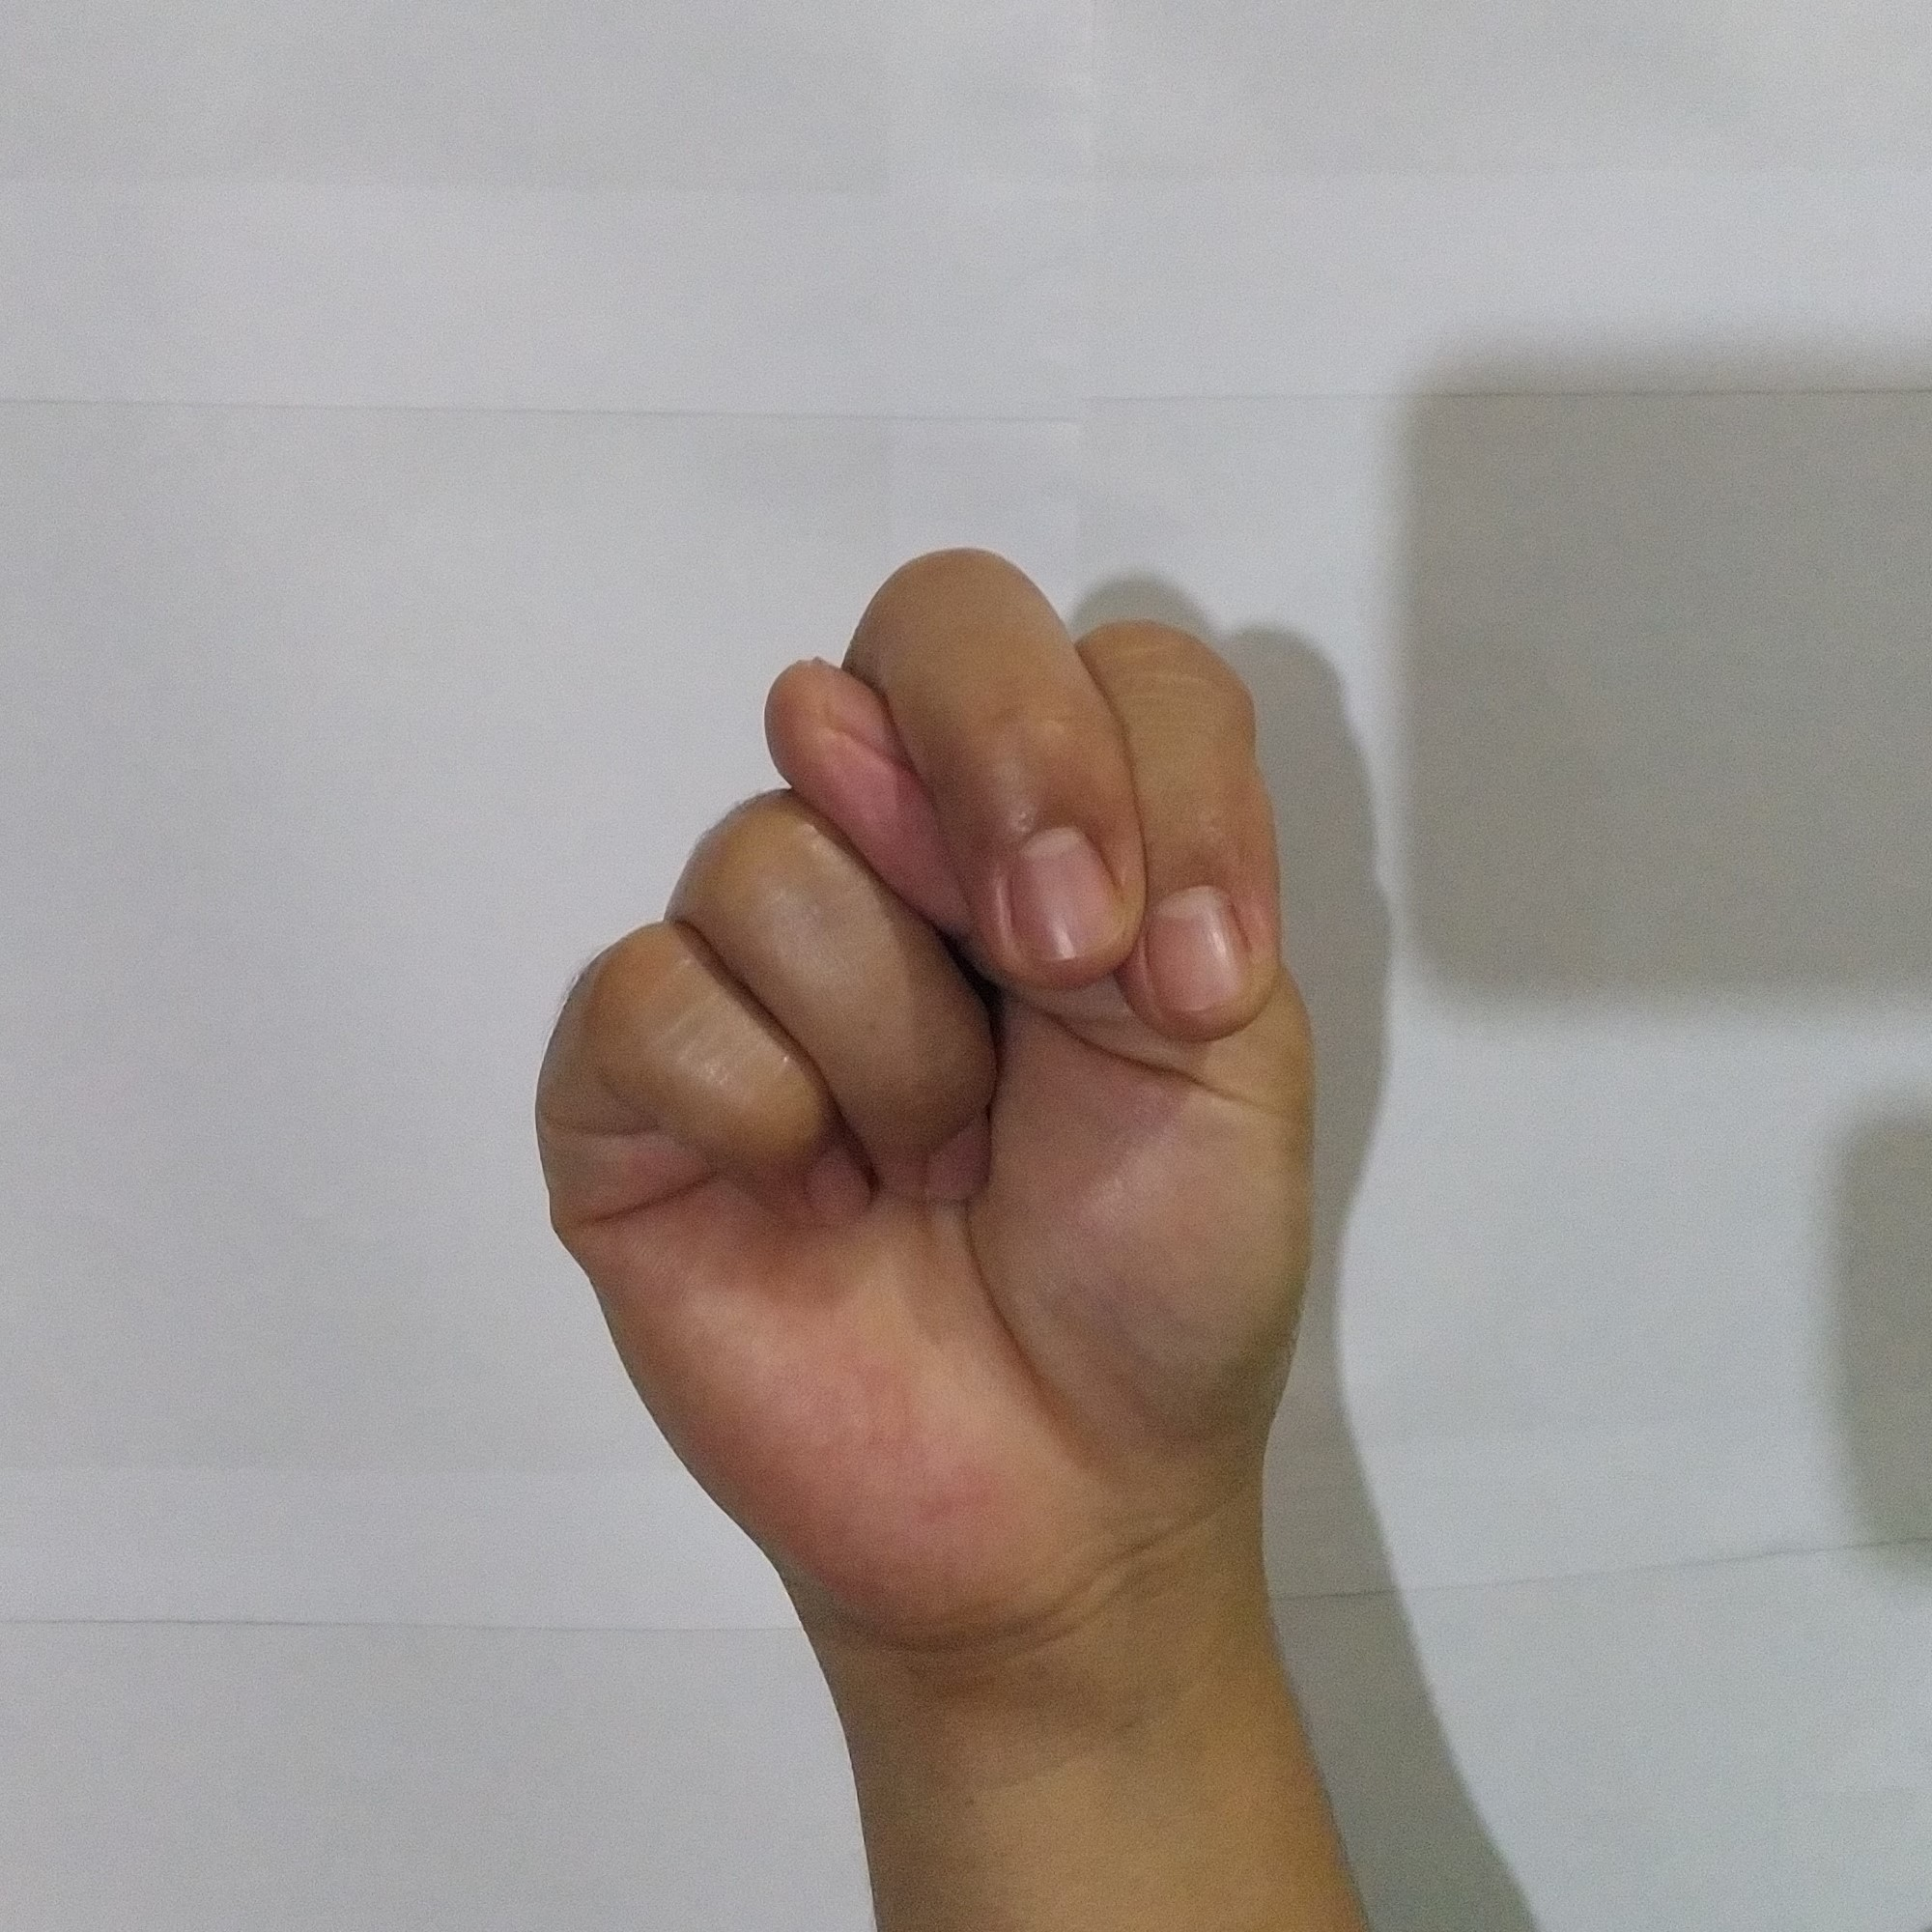N: (488, 511, 1353, 1601)
